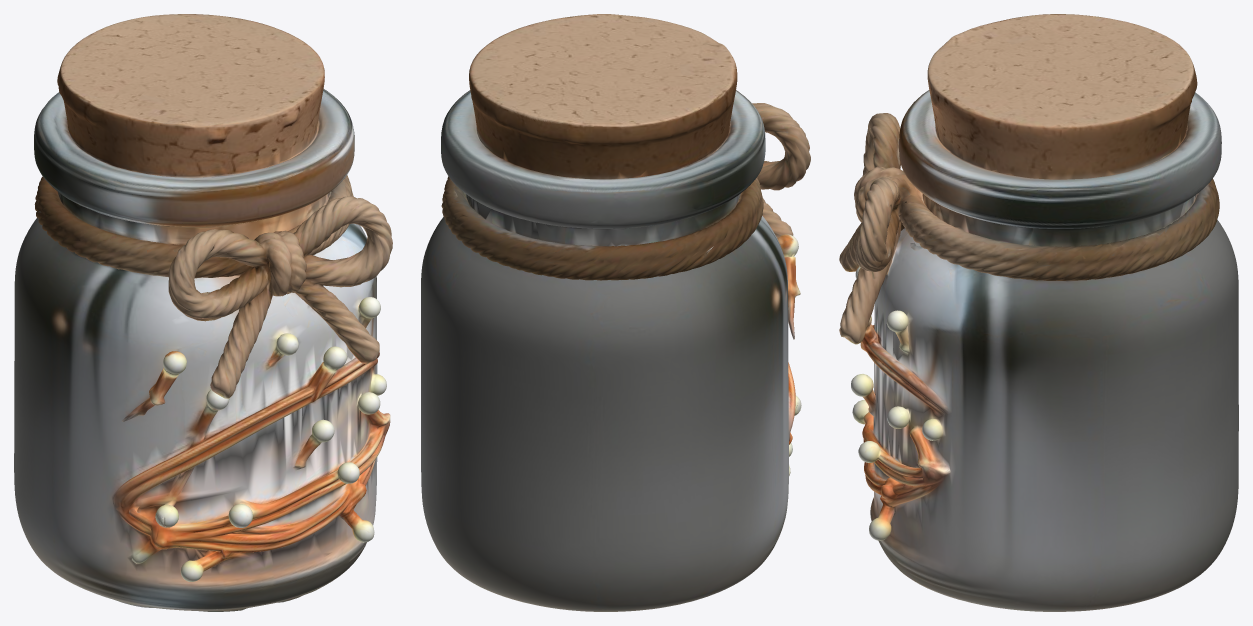
File: jar.glb
The picture shows the model from 3 angles, left to right: view 1: azimuth 30°, elevation 25°; view 2: azimuth 150°, elevation 25°; view 3: azimuth 270°, elevation 25°; orthographic projection.
Visible parts, largest first — view 1: node_0; view 2: node_0; view 3: node_0.
Boxes of the visible parts, x1,y1,x2,y2 form: node_0: [14, 14, 392, 611]; node_0: [421, 14, 810, 611]; node_0: [839, 14, 1238, 611].
Size of the model in its own units: 0.6969 by 1.01 by 0.7609.
Materials: 1 (1 with a texture image).
